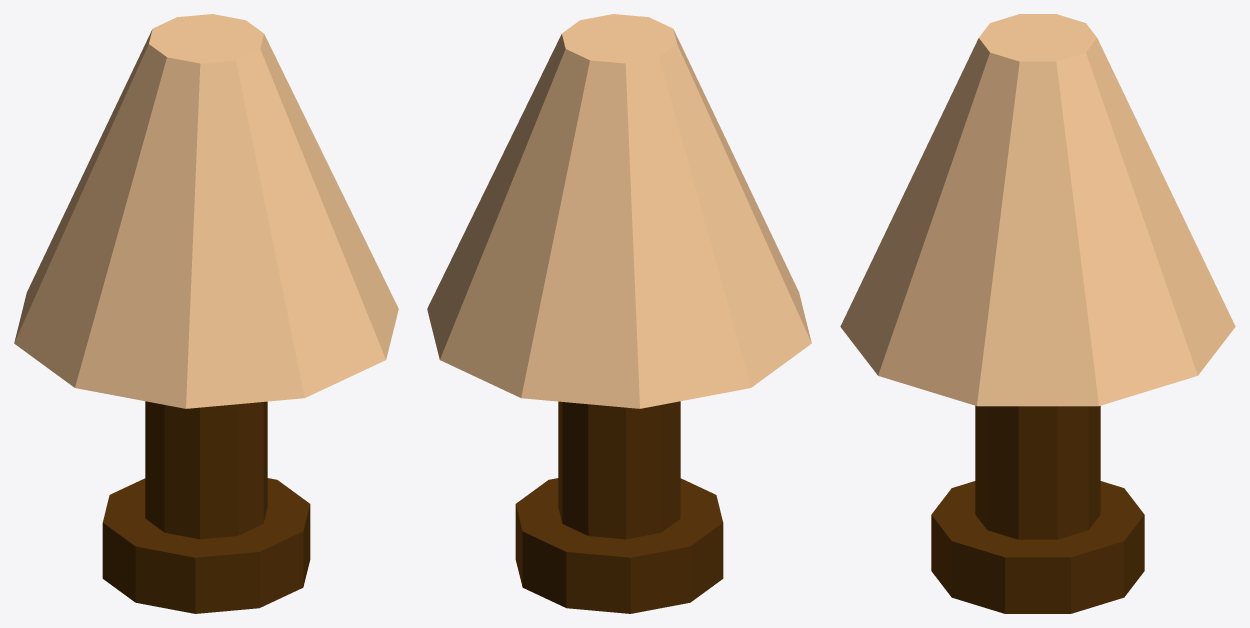
Rendered from lamp.fbx.
3 renders of one model, left to right at view 1: azimuth 30°, elevation 25°; view 2: azimuth 150°, elevation 25°; view 3: azimuth 270°, elevation 25°, orthographic.
Visible parts, largest first — view 1: Cylinder; view 2: Cylinder; view 3: Cylinder.
Part boxes in pixels (x1,y1,x2,y2): Cylinder: [14, 14, 398, 613]; Cylinder: [427, 14, 811, 613]; Cylinder: [840, 14, 1235, 613].
Bounding box in the file's own units: 307 × 481 × 323.
